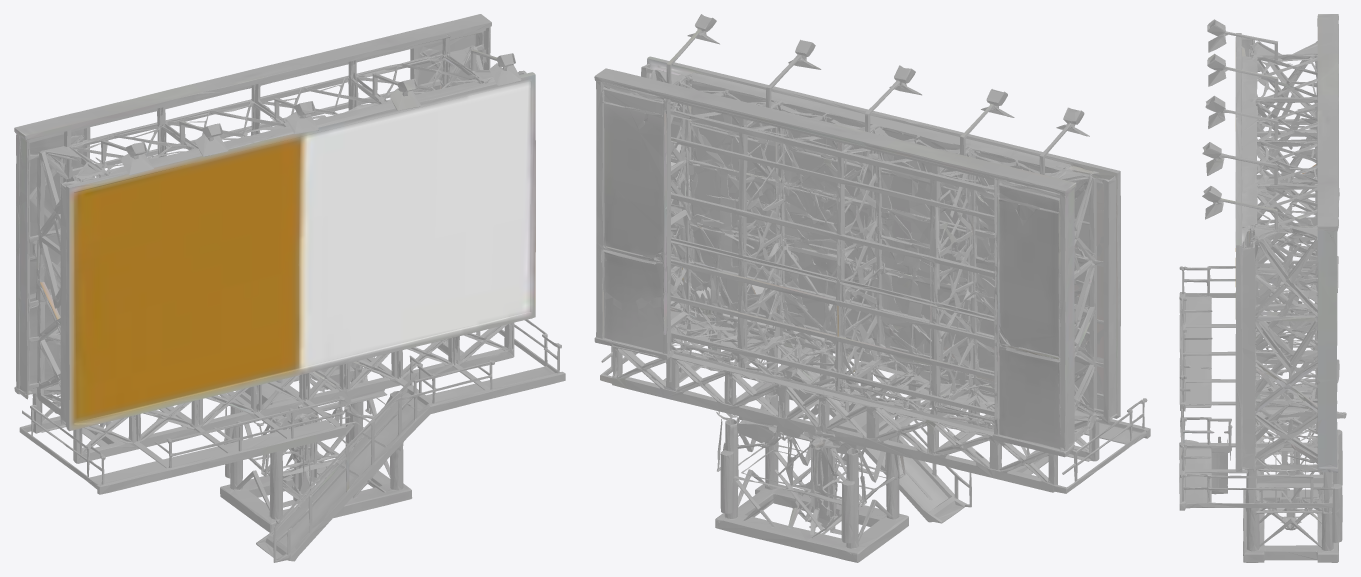
The model's file is billboard.glb.
The picture shows the model from 3 angles, left to right: view 1: azimuth 30°, elevation 25°; view 2: azimuth 150°, elevation 25°; view 3: azimuth 270°, elevation 25°; orthographic projection. The views are drawn at different scales.
Parts seen in each view (by area): view 1: geometry_0; view 2: geometry_0; view 3: geometry_0.
Part boxes in pixels (x1,y1,x2,y2): geometry_0: [14, 14, 565, 562]; geometry_0: [594, 14, 1150, 562]; geometry_0: [1179, 14, 1346, 562].
Bounding box in the file's own units: 1 × 0.9008 × 0.3332.
1 material, 1 textured.
